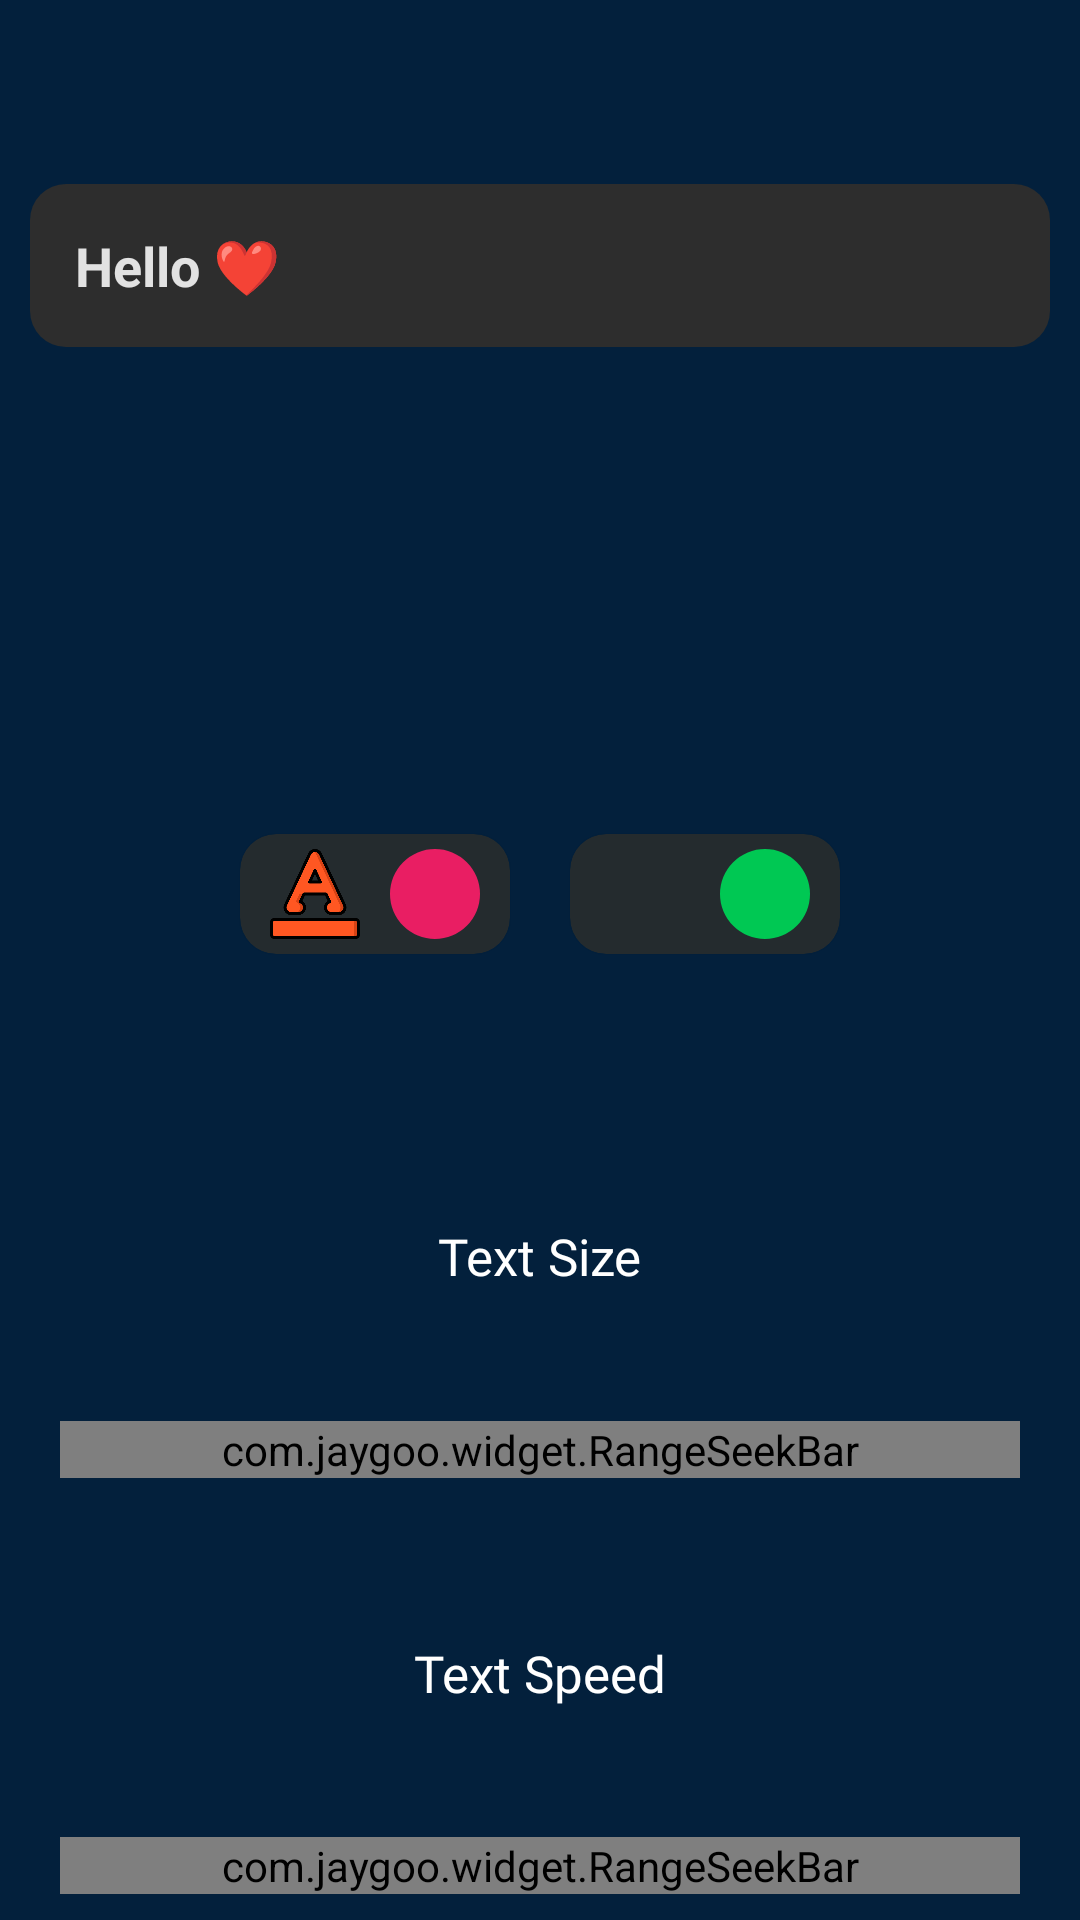

Where icons sit on this 1080px×1920px app screen, as (x1, y1, x2, y2):
text: (270, 849, 360, 939)
